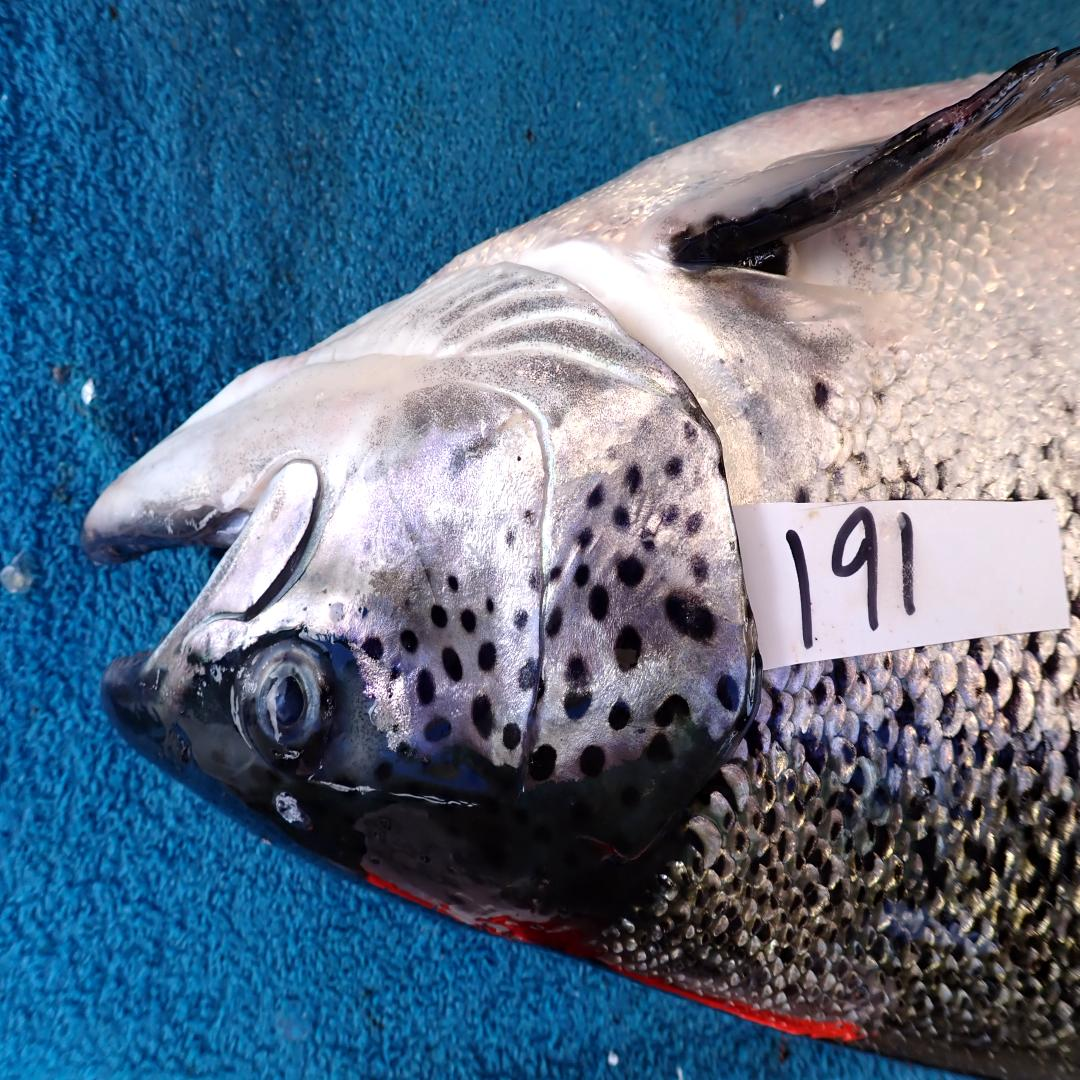roi: (324, 251, 751, 785)
